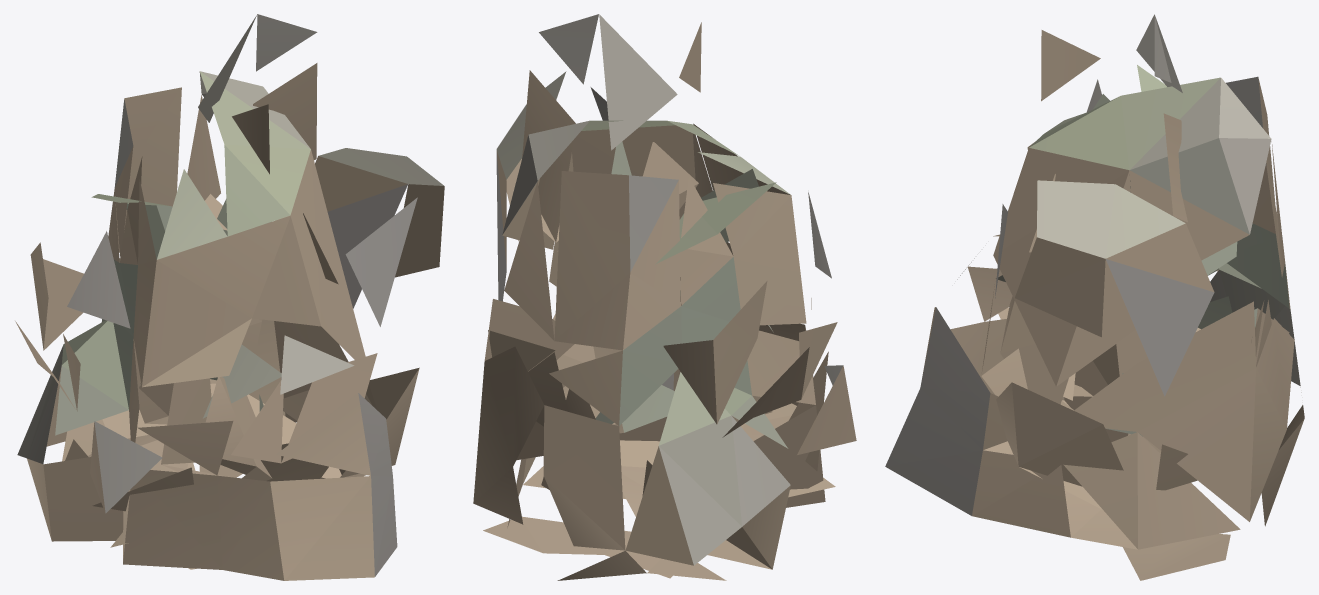
File: rock_2.lod.glb
3 views of the same model, side by side, from view 1: azimuth 30°, elevation 25°; view 2: azimuth 150°, elevation 25°; view 3: azimuth 270°, elevation 25° (orthographic).
Visible parts, largest first — view 1: rock_2; view 2: rock_2; view 3: rock_2.
Boxes of the visible parts, x1,y1,x2,y2 form: rock_2: (15,14,444,580); rock_2: (473,14,856,580); rock_2: (885,14,1304,580).
Bounding box in the file's own units: 1.87 × 2.65 × 1.91.
